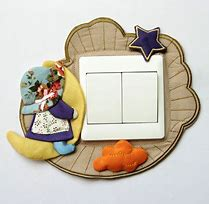switch: (123, 71, 158, 123), (87, 72, 122, 123)
